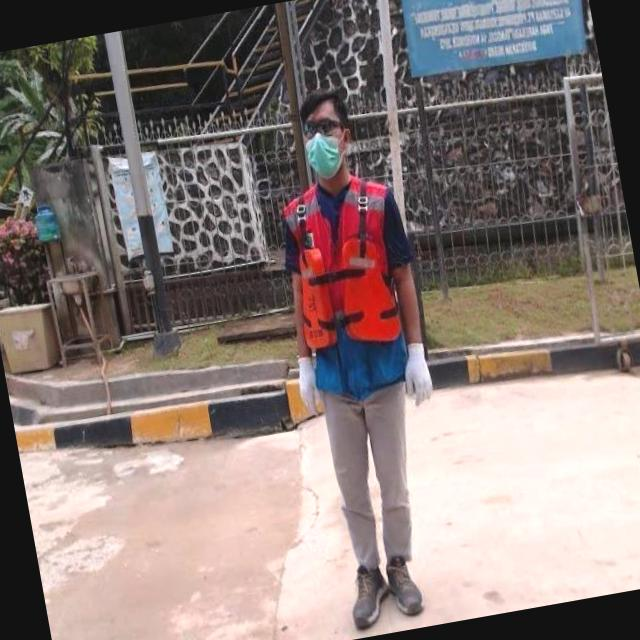vest: (281, 166, 424, 402)
